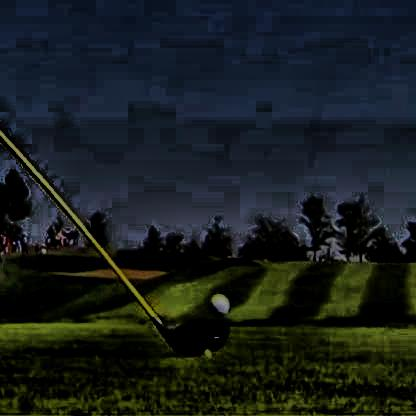golfball: (207, 291, 228, 313)
